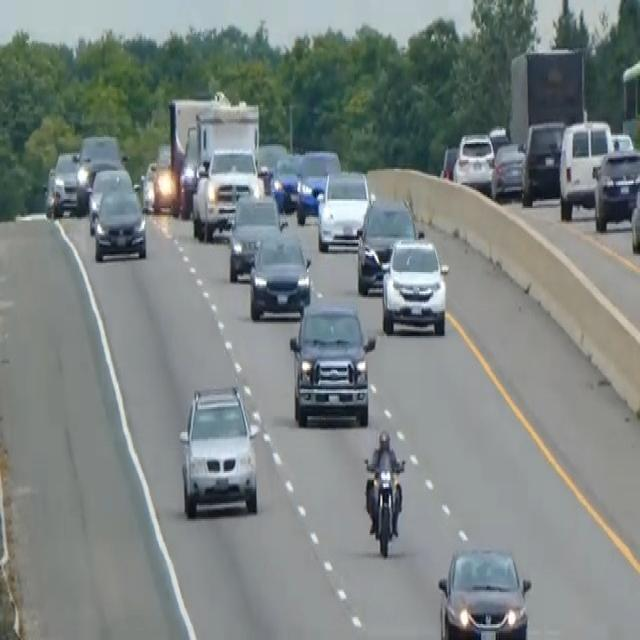car: (436, 542, 532, 638), (380, 235, 449, 336), (355, 196, 419, 295), (248, 228, 312, 322), (558, 117, 613, 219), (227, 190, 283, 281), (316, 167, 371, 251), (93, 185, 147, 261), (75, 132, 125, 212), (592, 146, 639, 231), (520, 118, 565, 205), (295, 148, 341, 224), (87, 165, 133, 233), (452, 130, 495, 192), (490, 139, 526, 201), (51, 149, 81, 215), (270, 151, 301, 212), (151, 140, 175, 212), (139, 158, 157, 212), (41, 165, 57, 217), (629, 174, 639, 254), (440, 142, 458, 180)
jeep: (176, 379, 260, 521), (288, 298, 375, 428)
motorcycle: (362, 454, 405, 556)
truck: (184, 98, 262, 238), (507, 44, 586, 150)
